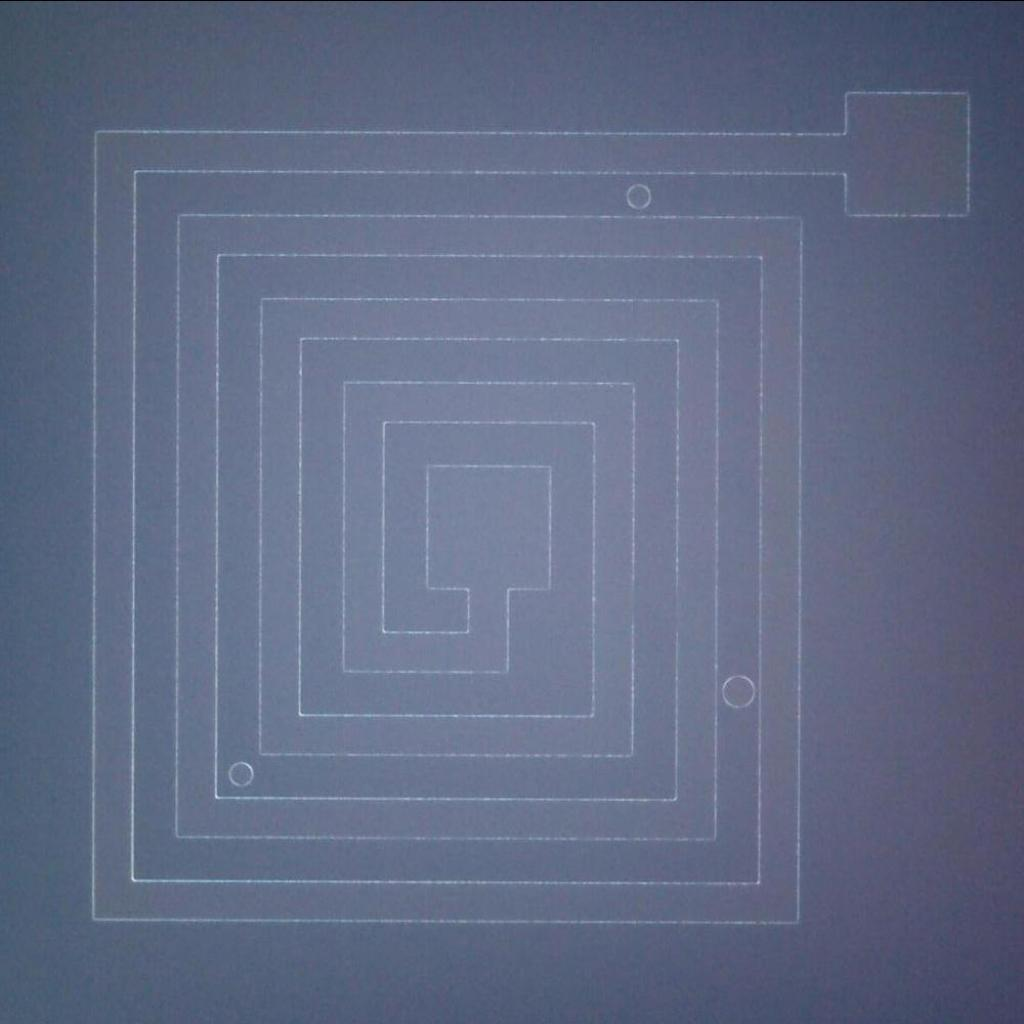circle: (722, 672, 758, 710), (620, 178, 657, 212), (224, 760, 260, 787)
